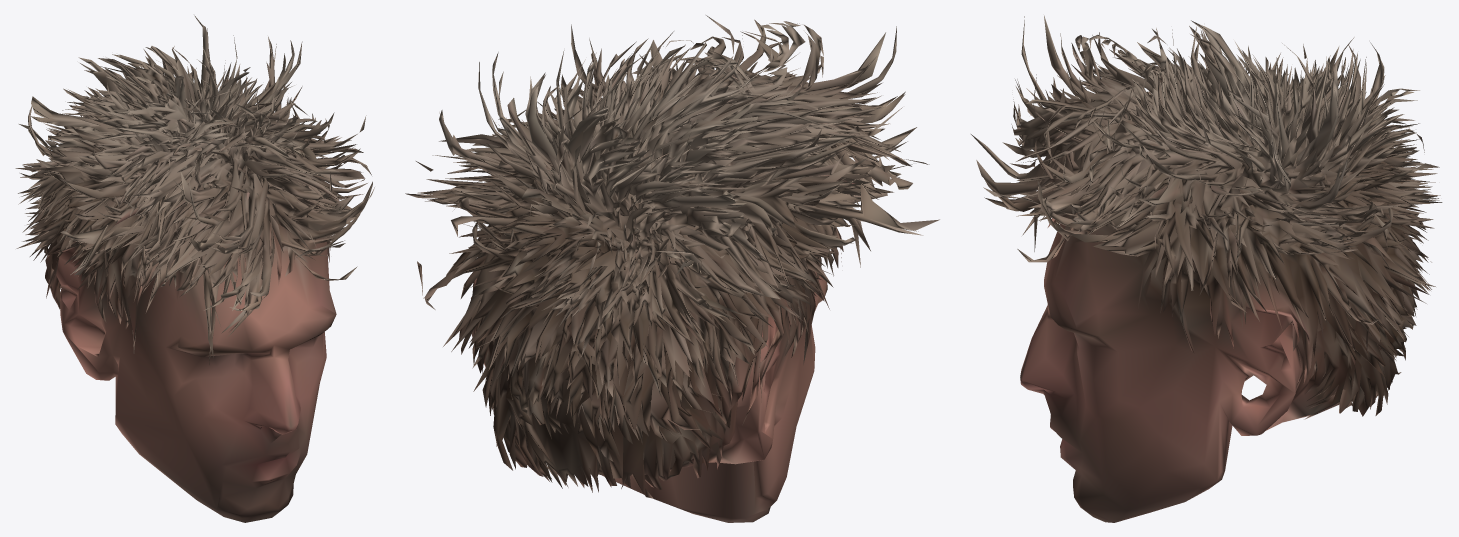
File: papa.glb
The picture shows the model from 3 angles, left to right: view 1: azimuth 30°, elevation 25°; view 2: azimuth 150°, elevation 25°; view 3: azimuth 270°, elevation 25°; orthographic projection. The views are drawn at different scales.
Parts seen in each view (by area): view 1: baked; view 2: baked; view 3: baked.
Boxes of the visible parts, x1,y1,x2,y2 form: baked: [15, 15, 374, 522]; baked: [405, 15, 939, 522]; baked: [971, 15, 1442, 522].
Bounding box in the file's own units: 1.51 × 1.77 × 1.61.
